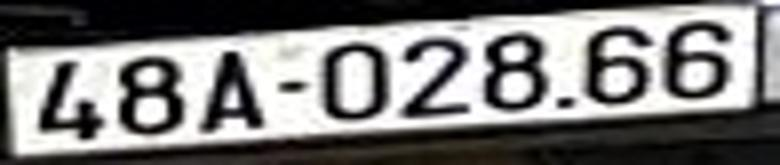-: (276, 77, 311, 97)
.: (557, 94, 575, 114)
0: (321, 41, 393, 124)
2: (399, 32, 471, 118)
4: (31, 59, 107, 141)
6: (581, 23, 651, 105), (664, 19, 733, 101)
8: (117, 55, 186, 137), (481, 29, 547, 110)
A: (199, 50, 267, 129)
